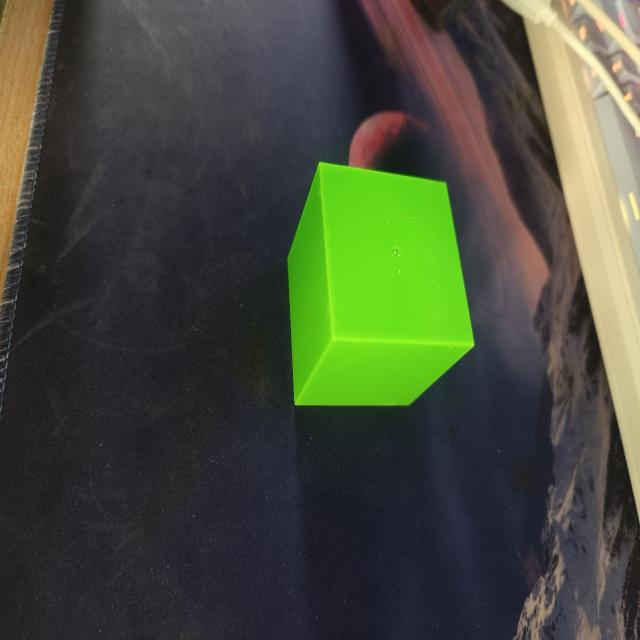green: (267, 155, 482, 429)
